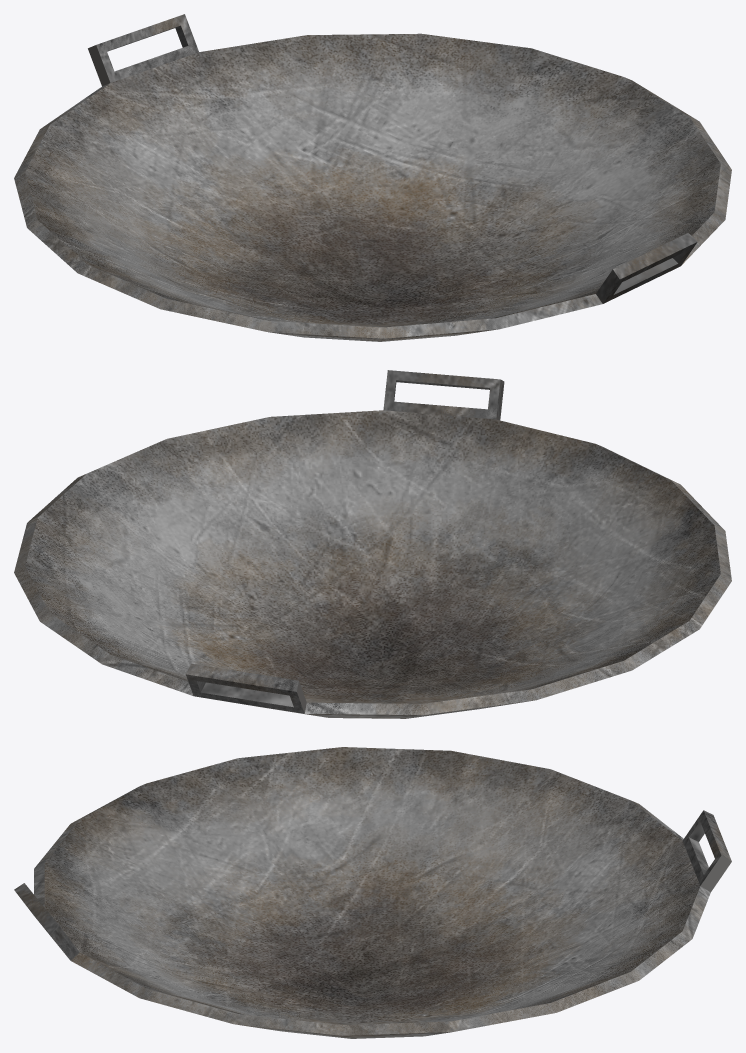
The model's file is Kitchen_Wok.fbx.
3 views of the same model, one above another, from view 1: azimuth 30°, elevation 25°; view 2: azimuth 150°, elevation 25°; view 3: azimuth 270°, elevation 25° (orthographic). The views are drawn at different scales.
Parts seen in each view (by area): view 1: Wok; view 2: Wok; view 3: Wok.
Part boxes in pixels (x1=…): Wok: x1=14, y1=14, x2=731, y2=341; Wok: x1=14, y1=370, x2=731, y2=718; Wok: x1=14, y1=747, x2=731, y2=1038.
Bounding box in the file's own units: 442 × 107 × 467.
